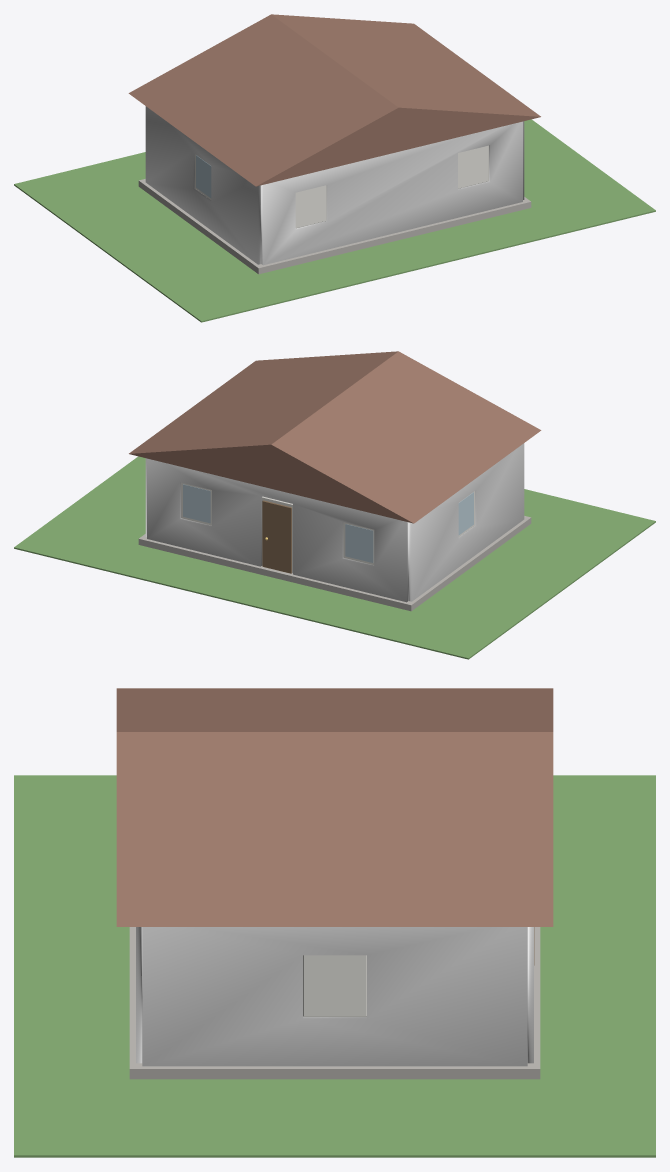
The model's file is house_tudor.glb.
The picture shows the model from 3 angles, top to bottom: view 1: azimuth 30°, elevation 25°; view 2: azimuth 150°, elevation 25°; view 3: azimuth 270°, elevation 25°; orthographic projection. The views are drawn at different scales.
Parts seen in each view (by area): view 1: roof, lawn, back_gf, left_gf, foundation, frame (×3), glass; view 2: roof, lawn, front_gf, left_gf, foundation, frame (×3), glass (×3), panel; view 3: lawn, roof, right_gf, foundation, frame, front_gf, back_gf.
Part boxes in pixels (bbox=[...]): roof: bbox=[128, 14, 540, 186]; lawn: bbox=[14, 119, 655, 322]; back_gf: bbox=[261, 121, 522, 265]; left_gf: bbox=[145, 106, 261, 264]; foundation: bbox=[138, 179, 531, 274]; frame (×3): bbox=[195, 145, 488, 228]; glass: bbox=[196, 155, 211, 197]; roof: bbox=[129, 351, 541, 523]; lawn: bbox=[14, 456, 655, 659]; front_gf: bbox=[147, 458, 408, 602]; left_gf: bbox=[408, 443, 524, 601]; foundation: bbox=[138, 516, 531, 611]; frame (×3): bbox=[181, 482, 474, 565]; glass (×3): bbox=[183, 484, 473, 562]; panel: bbox=[262, 500, 291, 573]; lawn: bbox=[14, 775, 655, 1157]; roof: bbox=[116, 688, 553, 926]; right_gf: bbox=[142, 927, 527, 1066]; foundation: bbox=[129, 927, 540, 1079]; frame: bbox=[303, 955, 366, 1016]; front_gf: bbox=[527, 927, 533, 1063]; back_gf: bbox=[136, 927, 142, 1063].
Bounding box in the file's own units: 14 × 4.05 × 10.
